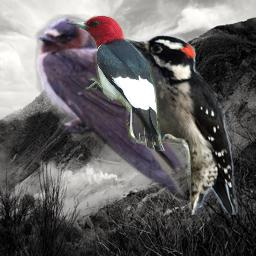Swallow: (33, 14, 210, 199)
Woodpecker: (122, 34, 238, 215), (64, 15, 168, 151)
